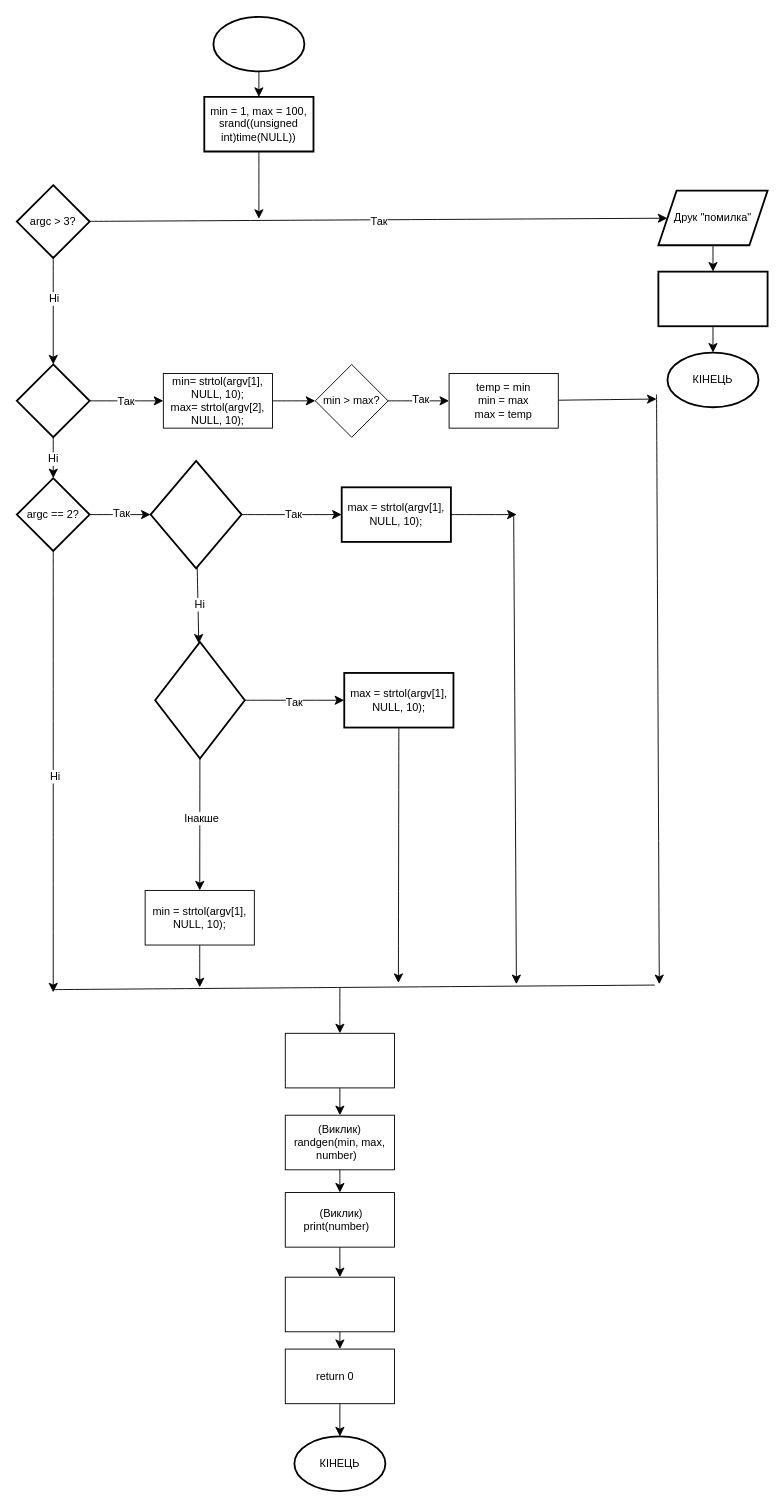
The diagram is 784 pixels wide and 1507 high, and some of its shapes have lost their labels. Here are the shapes that lost their labels. From the top down, the box of each, then its label:
(212, 15, 305, 72): ПОЧАТОК
(657, 270, 768, 327): return 1
(15, 363, 90, 438): argc == 3?
(149, 460, 242, 569): strtol(argv[1], NULL, 10) > max
(154, 641, 245, 759): strtol(argv[1], NULL, 10) == max
(284, 1032, 394, 1088): Оголосити int number[SIZE]
(284, 1276, 394, 1332): (Виклик) long totalsum = myfunction(number)
